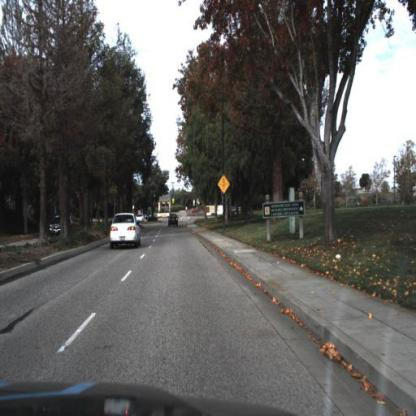car: (110, 210, 142, 248), (45, 210, 76, 241), (168, 212, 182, 228), (137, 211, 146, 223)
